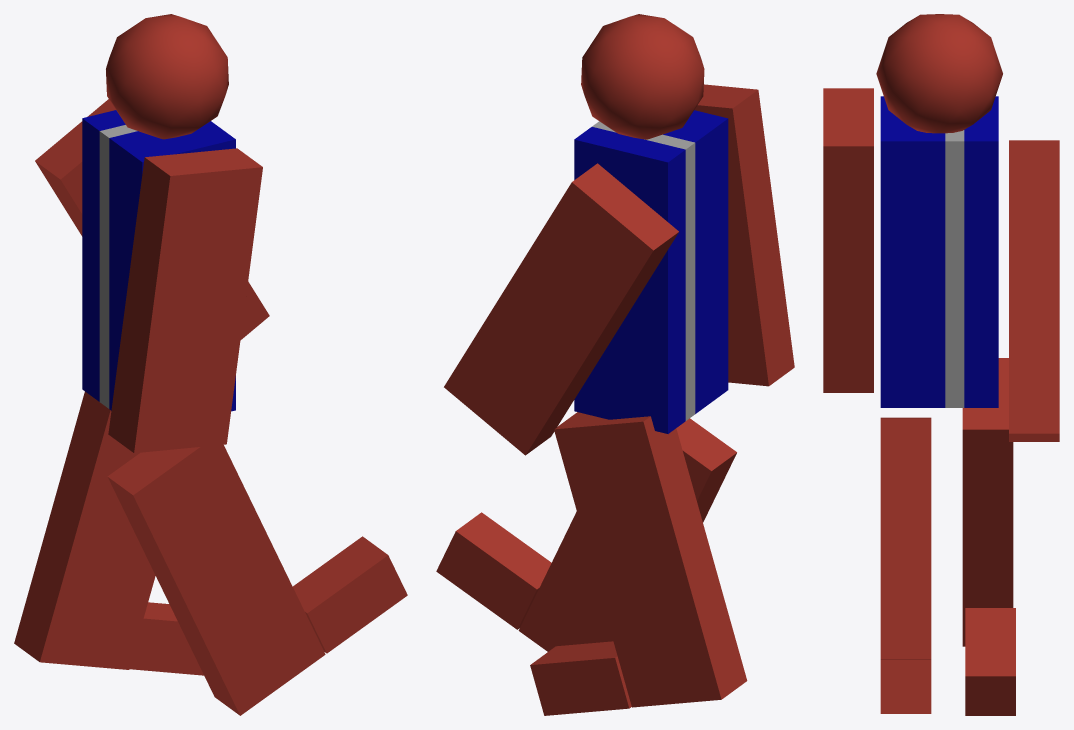
The model's file is player_000032.obj.
3 renders of one model, left to right at view 1: azimuth 30°, elevation 25°; view 2: azimuth 150°, elevation 25°; view 3: azimuth 270°, elevation 25°, orthographic.
Visible parts, largest first — view 1: Cube.005, Cube.001, Cube.002, Cube, Icosphere, Cube.003, Cube.006, Cube.004; view 2: Cube.002, Cube.006, Cube, Cube.005, Icosphere, Cube.001, Cube.003, Cube.004; view 3: Cube, Cube.005, Cube.006, Cube.001, Icosphere, Cube.002, Cube.004, Cube.003.
Part boxes in pixels (x1=…): Cube.005: x1=108, y1=148, x2=262, y2=453; Cube.001: x1=107, y1=444, x2=325, y2=715; Cube.002: x1=14, y1=391, x2=155, y2=669; Cube: x1=82, y1=110, x2=235, y2=411; Icosphere: x1=106, y1=14, x2=228, y2=139; Cube.003: x1=293, y1=536, x2=407, y2=653; Cube.006: x1=35, y1=99, x2=269, y2=340; Cube.004: x1=129, y1=602, x2=203, y2=675; Cube.002: x1=554, y1=412, x2=747, y2=707; Cube.006: x1=444, y1=163, x2=678, y2=455; Cube: x1=574, y1=110, x2=728, y2=433; Cube.005: x1=694, y1=84, x2=794, y2=386; Icosphere: x1=581, y1=14, x2=704, y2=139; Cube.001: x1=518, y1=418, x2=736, y2=651; Cube.003: x1=436, y1=512, x2=551, y2=629; Cube.004: x1=530, y1=641, x2=631, y2=715; Cube: x1=880, y1=96, x2=998, y2=407; Cube.005: x1=823, y1=88, x2=873, y2=392; Cube.006: x1=1009, y1=140, x2=1059, y2=441; Cube.001: x1=880, y1=417, x2=931, y2=658; Icosphere: x1=876, y1=14, x2=1002, y2=133; Cube.002: x1=962, y1=358, x2=1013, y2=646; Cube.004: x1=965, y1=608, x2=1015, y2=715; Cube.003: x1=880, y1=659, x2=931, y2=713.
Bounding box in the file's own units: 1.43 × 2.87 × 0.9137.
